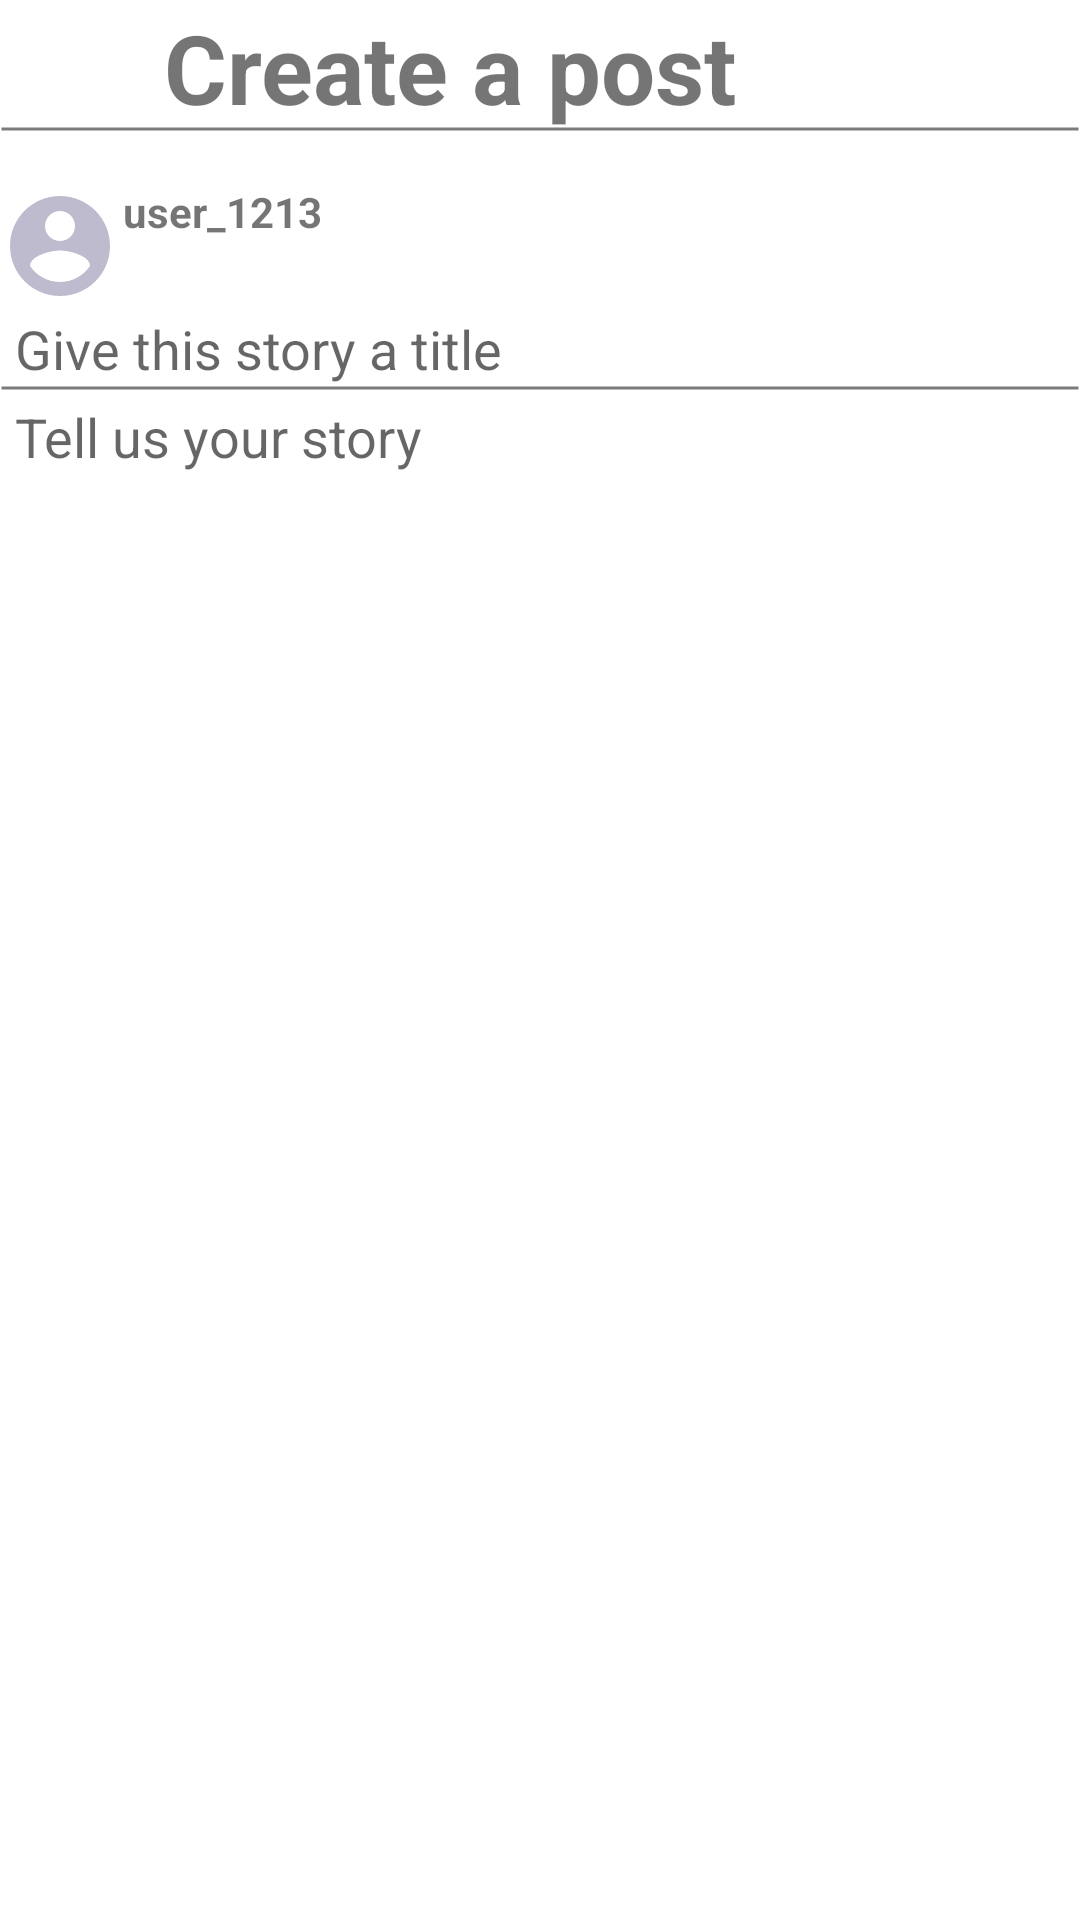

Icon click points for this 1080 × 1920 phone screenshot, format [x,y]:
account photo: [60,246]
